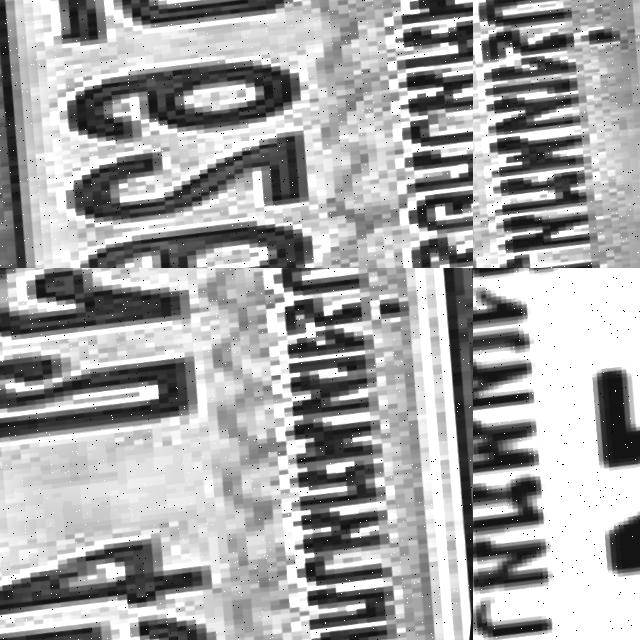license-plate: (0, 268, 473, 640), (0, 0, 473, 268), (473, 268, 640, 640), (473, 0, 640, 268)
